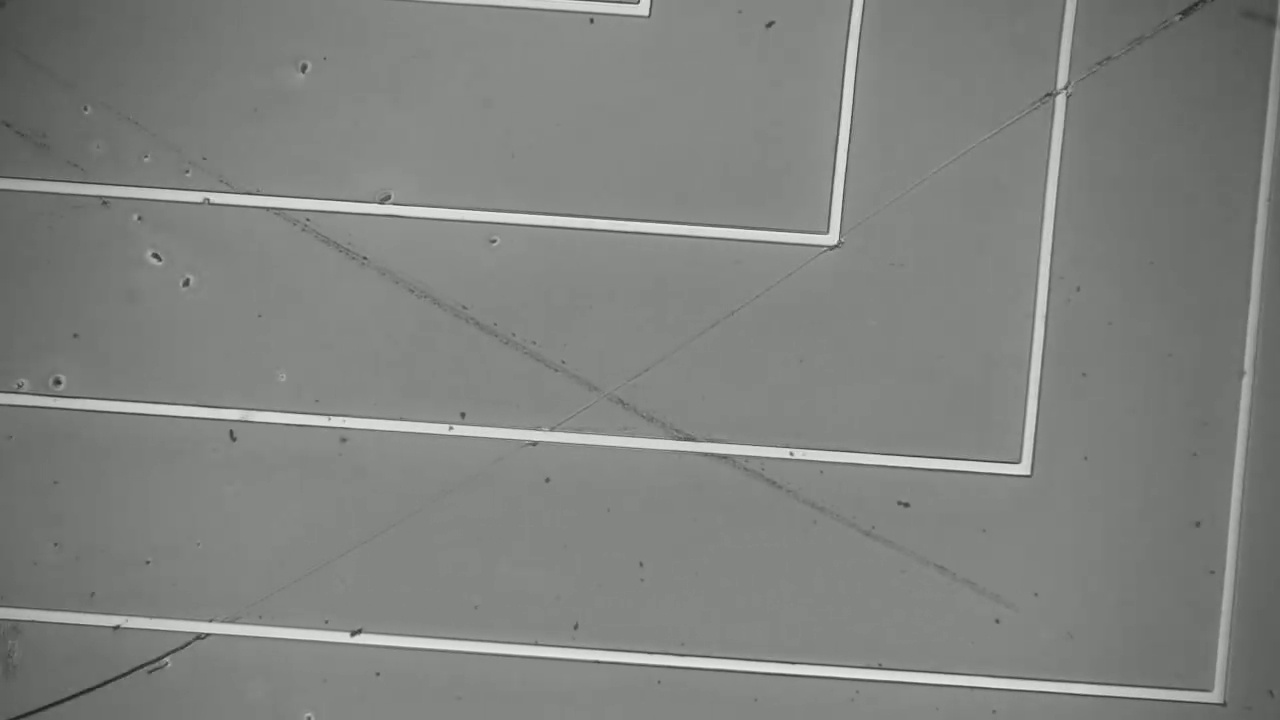edge_bite: (191, 185, 221, 211)
scratch: (17, 53, 1012, 599), (217, 252, 819, 621), (842, 7, 1213, 246), (8, 636, 196, 718)
stains_enbedded: (335, 620, 369, 652)
